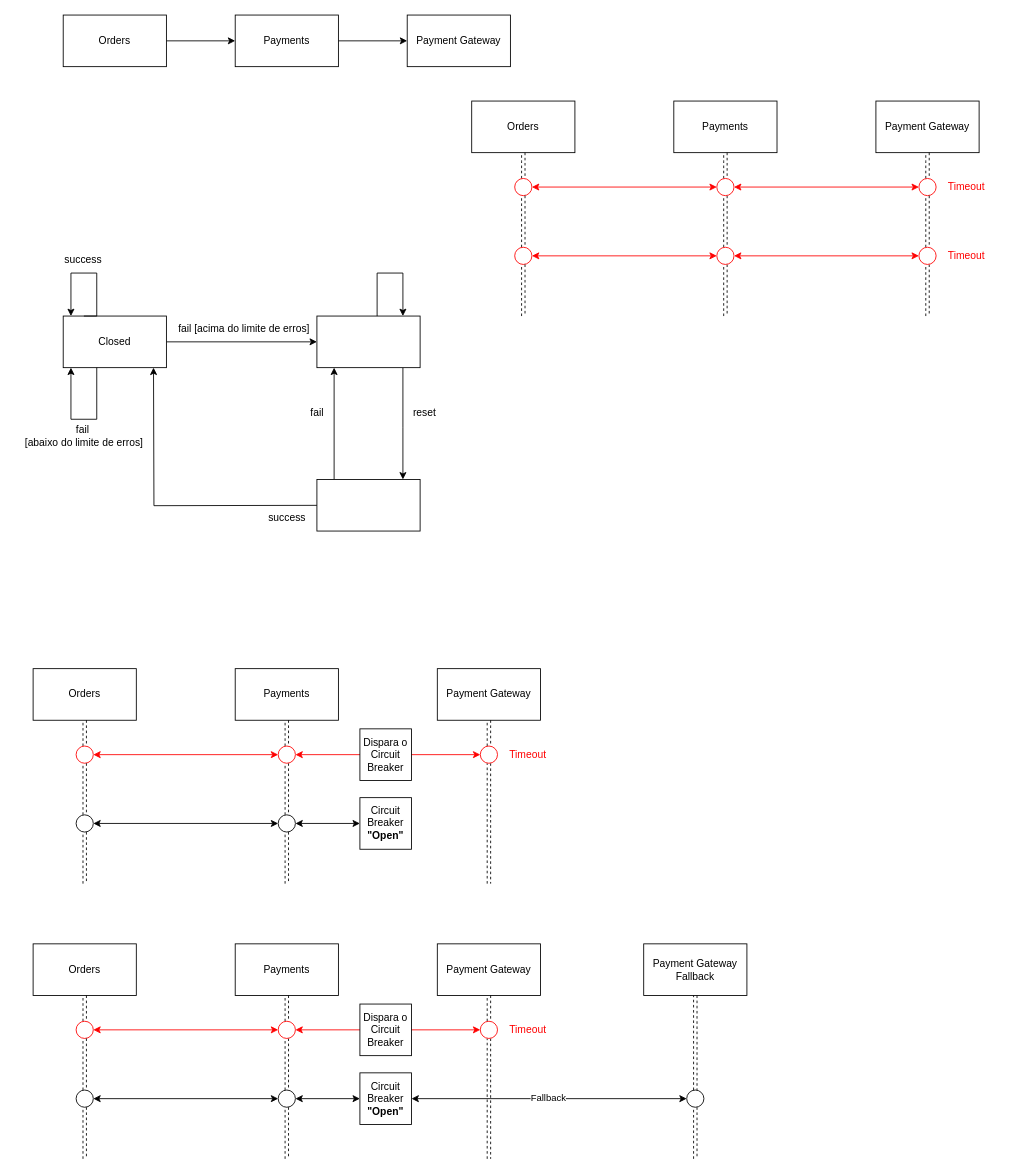
Image size: 1011x1174. Some labels were removed from this diagram. The centre of each missing label's shape, as x and y in pixels:
"Half-Open" belongs at point (368, 505).
"Open" belongs at point (368, 341).
